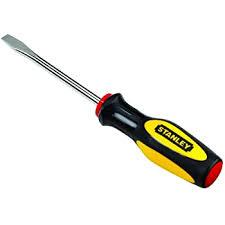screwdriver: (0, 32, 224, 187)
